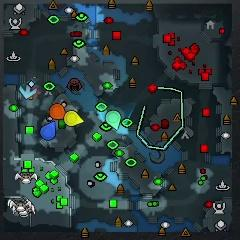p1: (41, 121, 56, 140)
p2: (105, 109, 121, 131)
p4: (64, 110, 84, 127)
p5: (50, 104, 66, 119)
x3: (19, 84, 37, 98)
